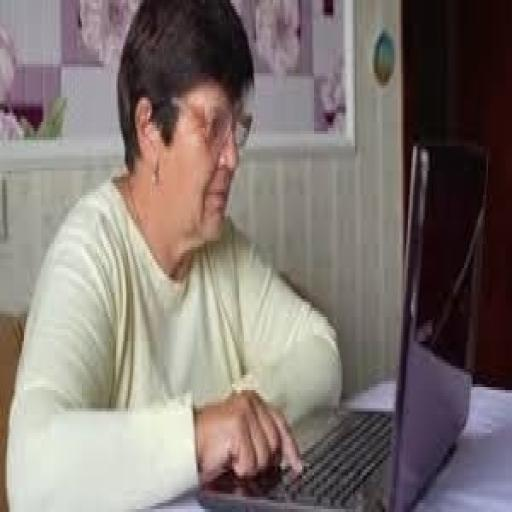using_laptop: (194, 134, 490, 509)
